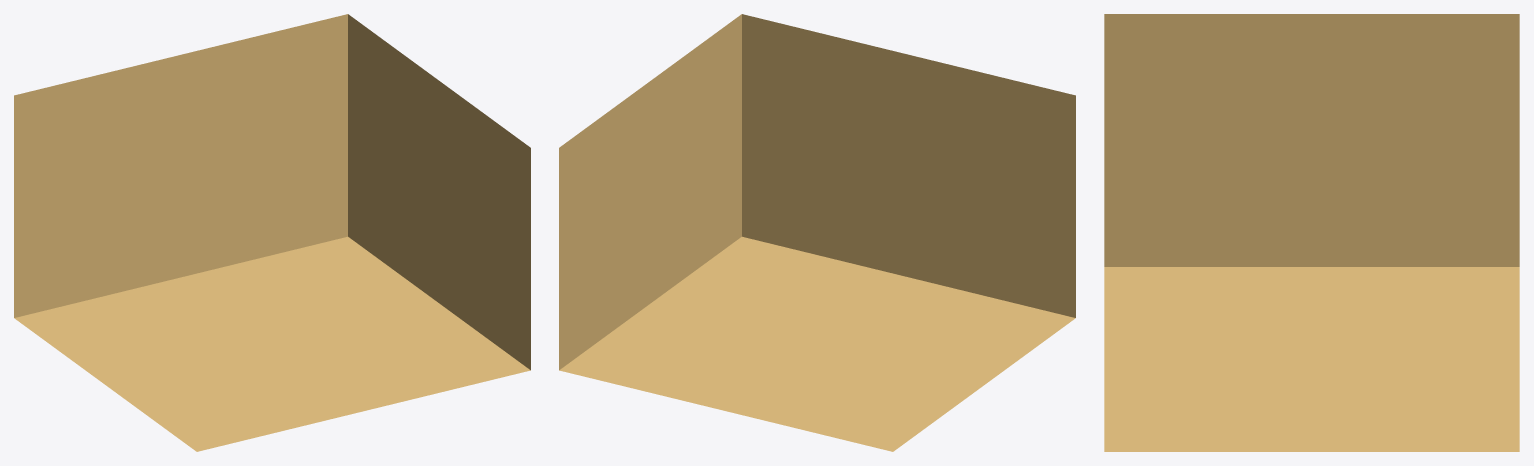
The model's file is production-planning-nagara-temple-014.glb.
The picture shows the model from 3 angles, left to right: view 1: azimuth 30°, elevation 25°; view 2: azimuth 150°, elevation 25°; view 3: azimuth 270°, elevation 25°; orthographic projection. The views are drawn at different scales.
Visible parts, largest first — view 1: Nagara Temple Production Planning; view 2: Nagara Temple Production Planning; view 3: Nagara Temple Production Planning.
Part boxes in pixels (x1,y1,x2,y2): Nagara Temple Production Planning: [14, 14, 530, 451]; Nagara Temple Production Planning: [559, 14, 1075, 451]; Nagara Temple Production Planning: [1104, 14, 1519, 451].
Size of the model in its own units: 1.35 by 0.86 by 1.28.
